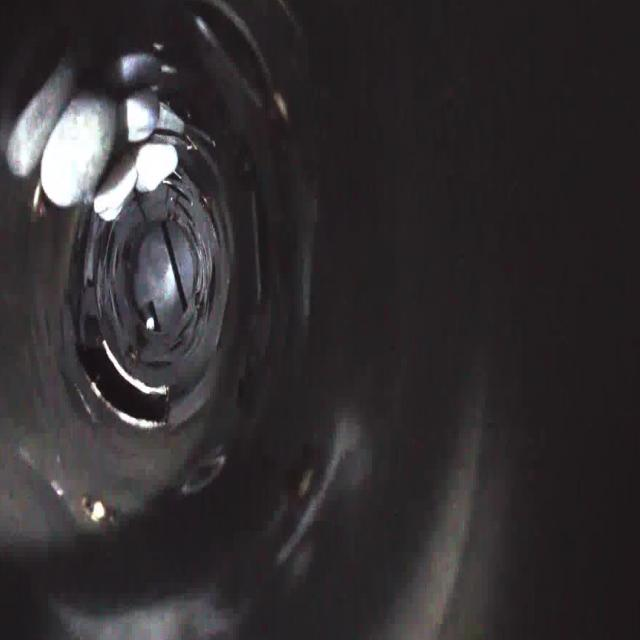crack: (92, 204, 125, 278), (158, 159, 196, 217), (196, 254, 225, 326), (197, 196, 230, 255), (94, 289, 122, 333), (172, 323, 202, 361), (130, 158, 154, 205), (140, 350, 175, 380)
hole: (78, 342, 174, 436)
